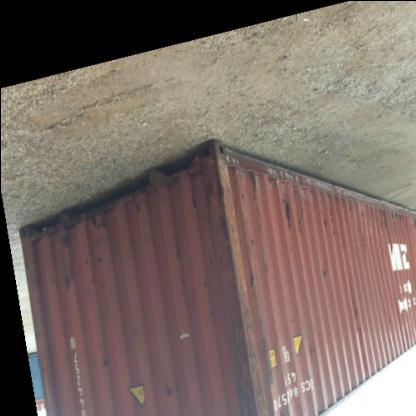Damage: (220, 298, 277, 415), (186, 156, 238, 274), (271, 172, 311, 237), (361, 204, 414, 240), (78, 255, 112, 301), (248, 234, 272, 292), (322, 204, 350, 249), (290, 340, 332, 362), (238, 168, 262, 203), (343, 300, 365, 334), (158, 380, 186, 402), (382, 298, 399, 334), (56, 264, 74, 294), (128, 200, 150, 221), (57, 228, 73, 256), (90, 216, 110, 237), (176, 273, 188, 307), (174, 328, 192, 348), (96, 356, 114, 374), (198, 280, 214, 297), (318, 266, 329, 284)
